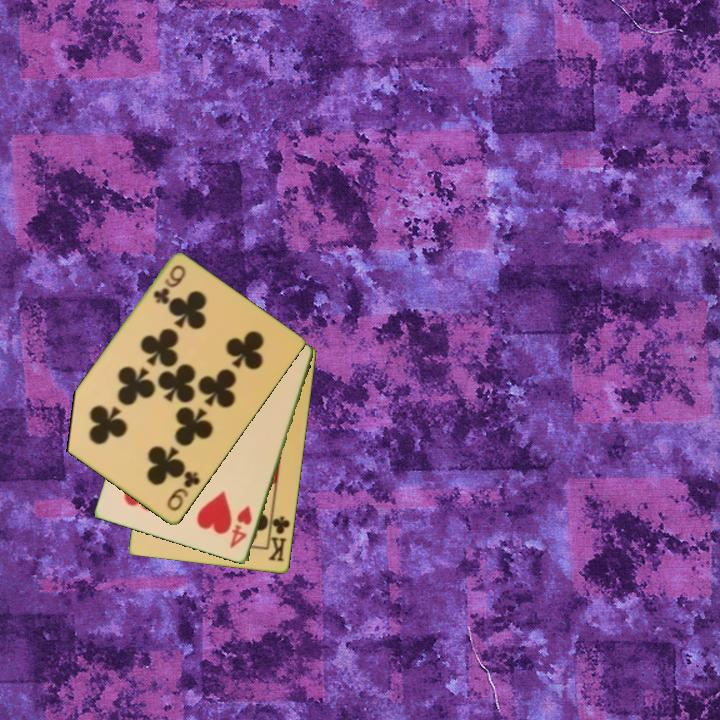4h: (226, 503, 255, 551)
9c: (163, 468, 203, 514), (150, 262, 189, 307)
Kc: (265, 510, 293, 565)
